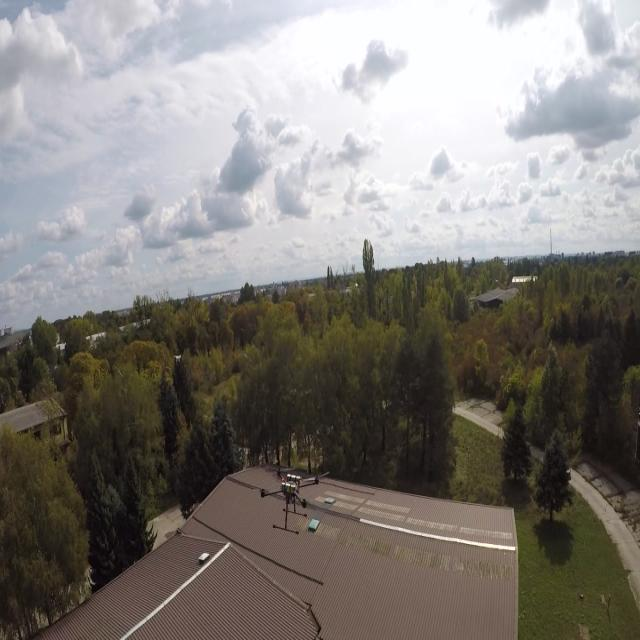UAV: (255, 461, 333, 535)
